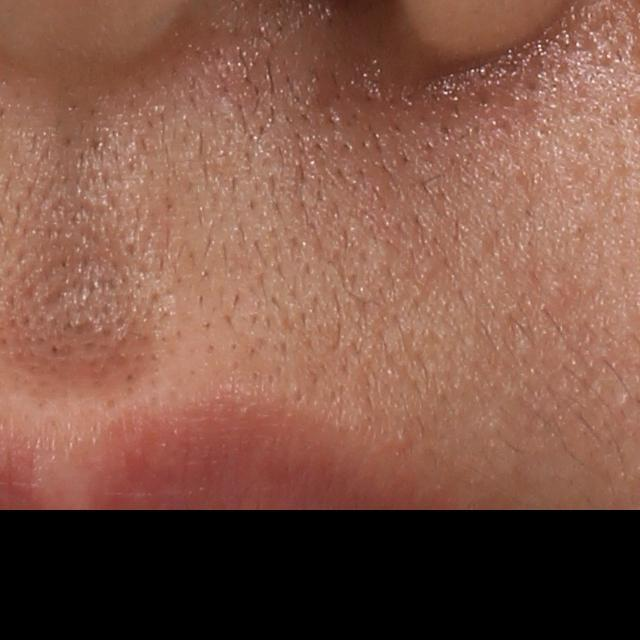comedo: (394, 429, 411, 449)
